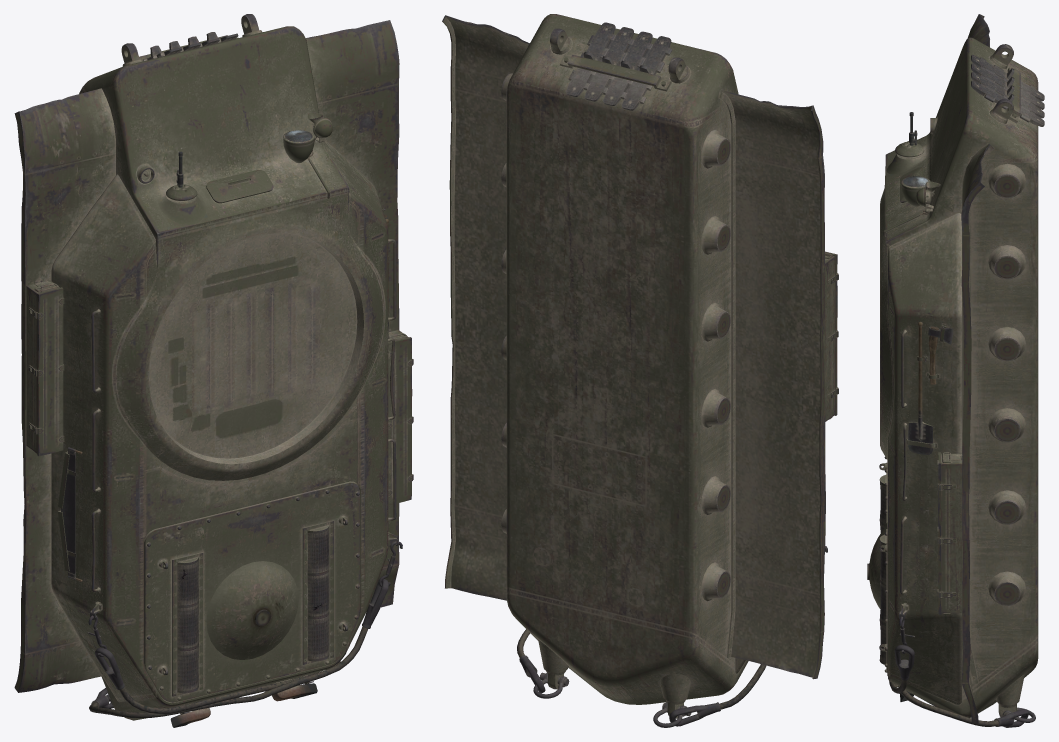
The model's file is Hull.glb.
The picture shows the model from 3 angles, left to right: view 1: azimuth 30°, elevation 25°; view 2: azimuth 150°, elevation 25°; view 3: azimuth 270°, elevation 25°; orthographic projection. The views are drawn at different scales.
Visible parts, largest first — view 1: set_0_group_0; view 2: set_0_group_0; view 3: set_0_group_0.
Boxes of the visible parts, bbox=[...] form: set_0_group_0: bbox=[14, 14, 413, 727]; set_0_group_0: bbox=[442, 14, 838, 727]; set_0_group_0: bbox=[867, 14, 1044, 727].
Bounding box in the file's own units: 3.14 × 5.34 × 1.37.
Materials: 1 (1 with a texture image).
